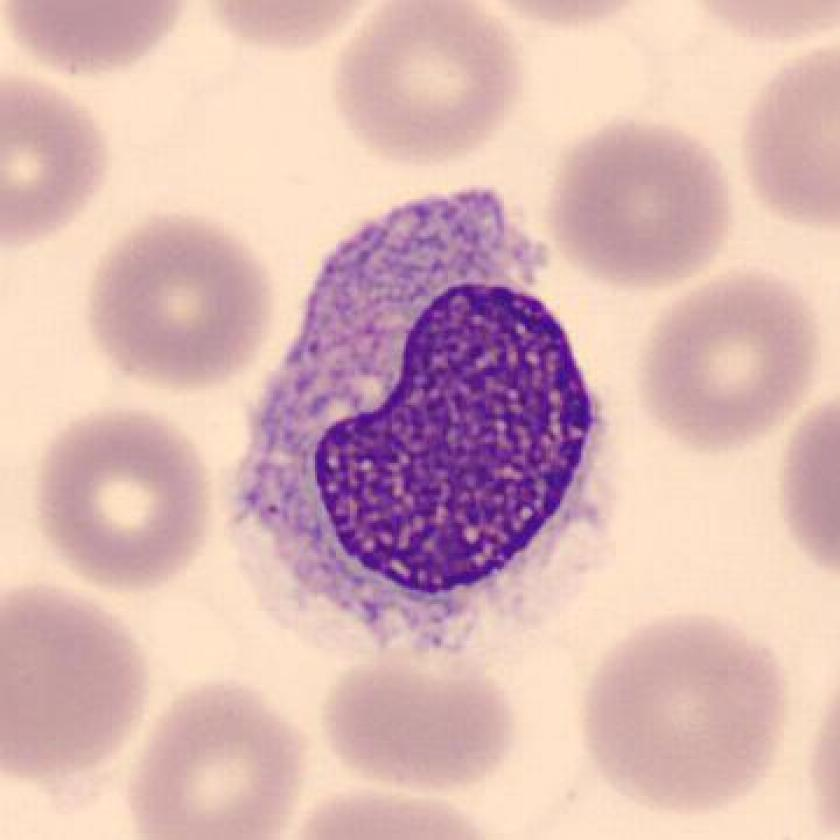monocyte: (199, 170, 643, 681)
